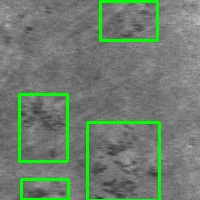rolled-in_scale: (87, 122, 159, 200), (19, 94, 67, 161), (100, 1, 157, 40), (21, 179, 68, 199)
